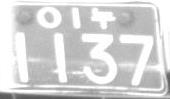0: (36, 5, 62, 29)
1: (8, 32, 39, 82), (44, 33, 75, 83), (65, 6, 88, 29)
3: (81, 32, 117, 85)
7: (119, 33, 154, 86)
누: (90, 7, 117, 30)
